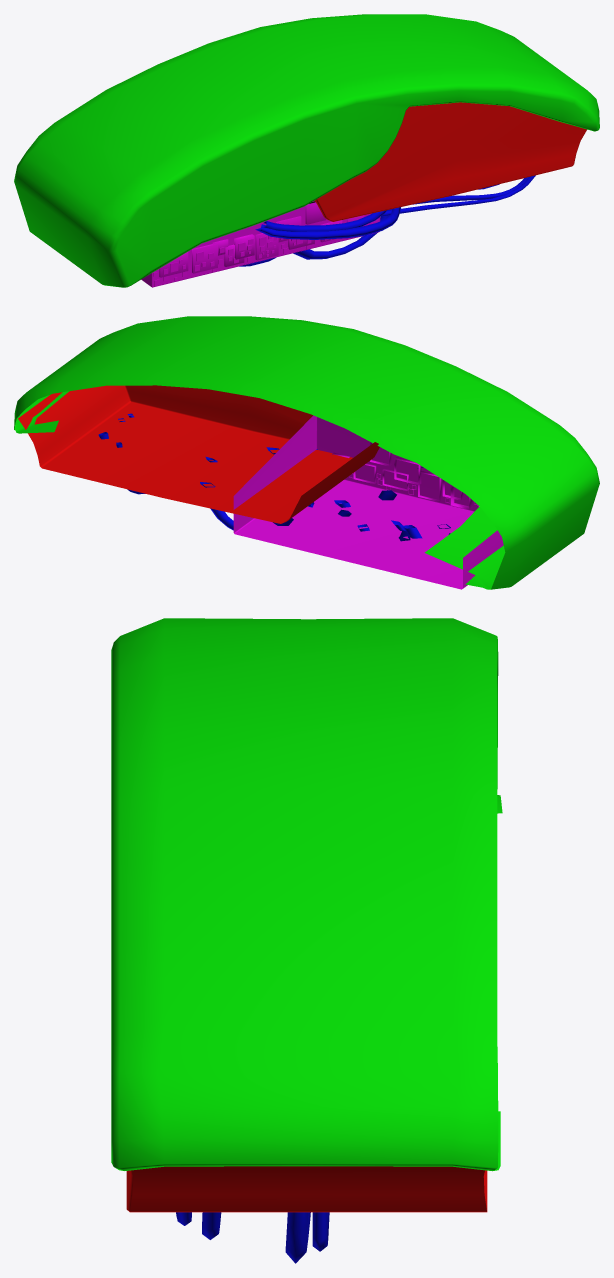
The model's file is breakoutHitter2.fbx.
3 views of the same model, one above another, from view 1: azimuth 30°, elevation 25°; view 2: azimuth 150°, elevation 25°; view 3: azimuth 270°, elevation 25° (orthographic). The views are drawn at different scales.
Parts seen in each view (by area): view 1: hitterThing_final; view 2: hitterThing_final; view 3: hitterThing_final.
Boxes of the visible parts, x1,y1,x2,y2 form: hitterThing_final: (14,14,599,287); hitterThing_final: (14,316,599,589); hitterThing_final: (111,618,502,1263).
Bounding box in the file's own units: 300 × 99.14 × 103.
